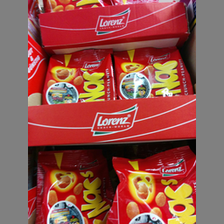nuts: (108, 146, 196, 224), (34, 149, 111, 224), (113, 45, 193, 99), (40, 50, 117, 104)
